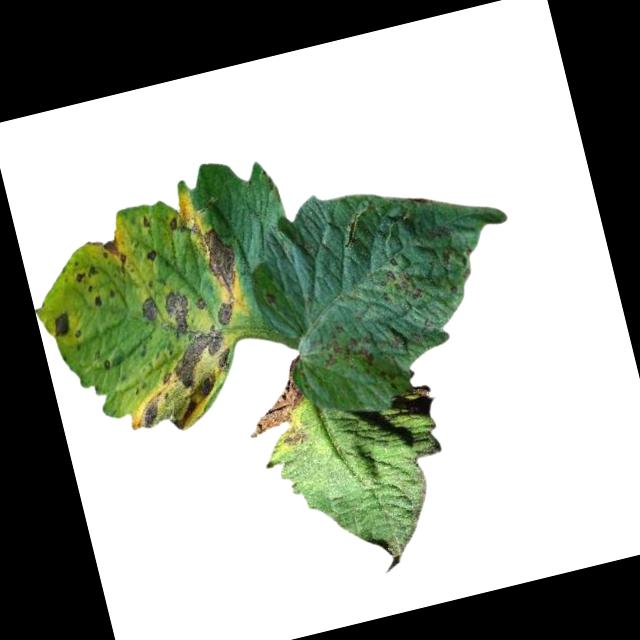Early_blight: (114, 322, 249, 442), (236, 357, 311, 436), (306, 321, 380, 382), (193, 224, 246, 302), (370, 253, 422, 312), (159, 286, 196, 340), (98, 235, 129, 274), (213, 299, 238, 330), (71, 260, 100, 285), (49, 312, 74, 340), (136, 296, 160, 325), (283, 427, 307, 449), (165, 215, 182, 235), (90, 293, 105, 311), (143, 249, 159, 265), (138, 215, 152, 232), (263, 292, 278, 307), (196, 299, 205, 312)
